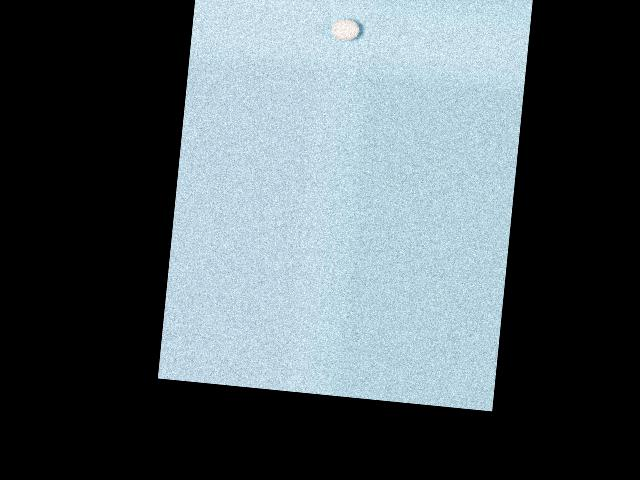egg: (330, 17, 360, 41)
